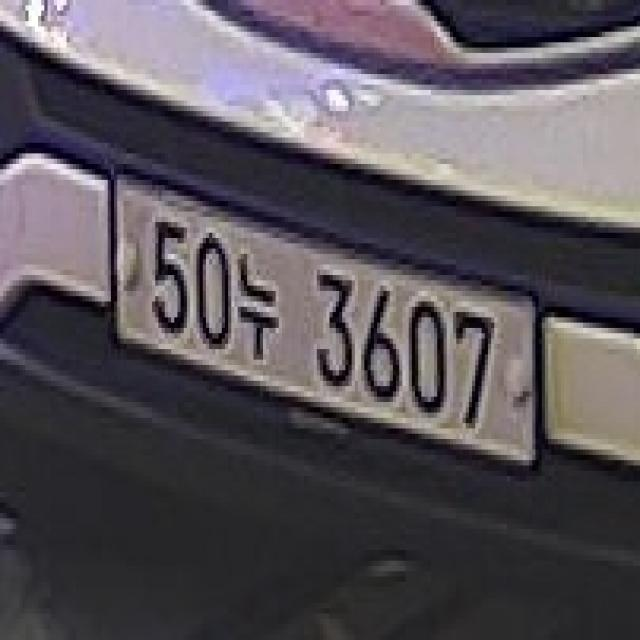0: (194, 228, 234, 358), (408, 296, 448, 420)
3: (310, 266, 358, 396)
5: (147, 215, 190, 342)
6: (364, 281, 402, 411)
7: (453, 302, 497, 432)
license_plate: (108, 167, 545, 477)
nu: (238, 248, 280, 370)
